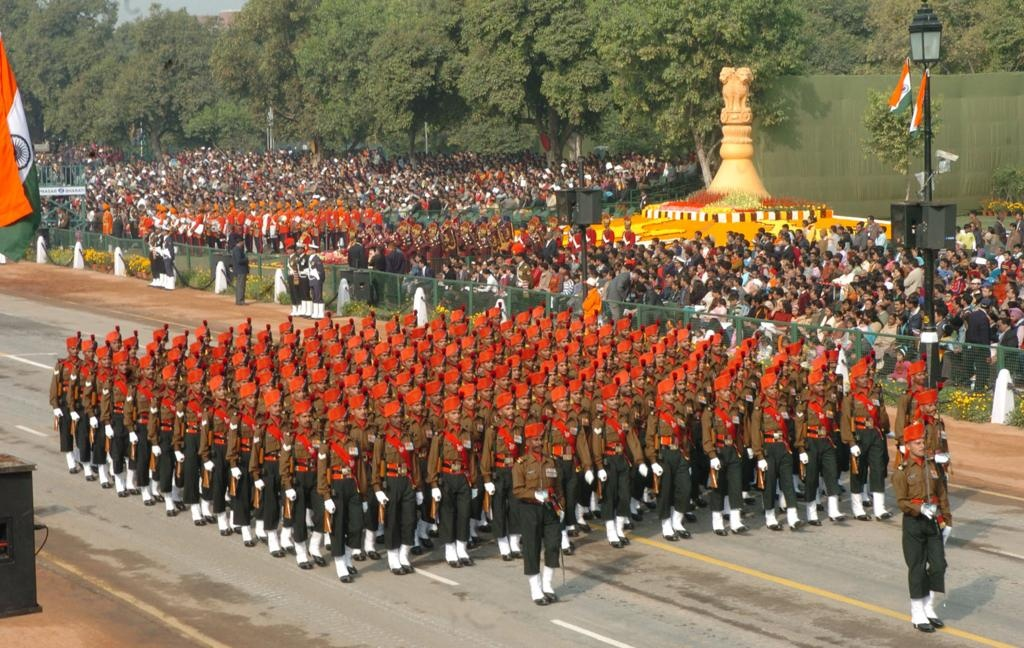human_face: (908, 436, 924, 455), (529, 433, 543, 451), (299, 411, 313, 427), (292, 385, 306, 401), (923, 400, 937, 416), (268, 400, 282, 414), (764, 383, 778, 397), (718, 386, 730, 402), (662, 387, 674, 403), (620, 380, 632, 396), (501, 403, 513, 419), (518, 392, 530, 408), (354, 403, 366, 419), (390, 412, 402, 428), (412, 398, 424, 414), (448, 409, 460, 423), (245, 393, 257, 407), (214, 385, 226, 399), (167, 375, 179, 389), (142, 365, 154, 379), (328, 396, 340, 410), (812, 381, 824, 395), (534, 382, 546, 396), (557, 396, 569, 410), (571, 389, 583, 403), (463, 394, 475, 408), (606, 394, 618, 408), (430, 390, 442, 404), (544, 369, 556, 383), (364, 375, 376, 389), (675, 378, 685, 394), (238, 376, 250, 389), (856, 373, 868, 386), (556, 360, 568, 373), (192, 380, 204, 392), (260, 381, 272, 393), (686, 370, 698, 382), (481, 386, 493, 398), (399, 382, 411, 394), (414, 373, 426, 385), (378, 393, 390, 405), (482, 334, 494, 346), (334, 418, 344, 432), (914, 369, 924, 383), (790, 350, 800, 364), (448, 379, 458, 393), (644, 362, 654, 376), (655, 352, 665, 366), (570, 350, 580, 364), (421, 346, 431, 360), (826, 359, 838, 370), (634, 374, 644, 387), (118, 361, 128, 373), (100, 355, 110, 367), (85, 346, 95, 358), (68, 344, 78, 356), (316, 378, 326, 390), (712, 342, 722, 354), (498, 376, 508, 388), (286, 375, 298, 385), (680, 337, 690, 349), (632, 339, 642, 351), (620, 350, 632, 360), (586, 343, 598, 353), (541, 347, 551, 359), (511, 366, 521, 378), (388, 366, 398, 378), (435, 363, 445, 375), (448, 352, 458, 364), (436, 336, 446, 348), (338, 370, 348, 382), (379, 350, 389, 362), (333, 352, 343, 364), (326, 336, 336, 348), (110, 339, 120, 351), (780, 362, 788, 376), (584, 378, 594, 389), (483, 359, 493, 370), (405, 357, 415, 368), (358, 359, 368, 370), (236, 360, 246, 371), (362, 325, 374, 334), (348, 384, 358, 394), (260, 368, 270, 378), (594, 368, 604, 378), (602, 335, 612, 345), (542, 327, 552, 337), (463, 370, 473, 380), (394, 342, 404, 352), (351, 344, 361, 354), (126, 346, 136, 356), (214, 356, 224, 366), (281, 330, 291, 340), (258, 350, 268, 360), (994, 320, 1004, 330), (734, 367, 742, 379), (866, 370, 874, 382), (743, 356, 751, 368), (696, 359, 704, 371), (588, 320, 596, 332), (201, 332, 209, 344), (306, 349, 318, 357), (513, 343, 523, 352), (176, 344, 186, 353), (666, 344, 674, 355), (310, 364, 318, 374), (649, 332, 657, 342), (560, 337, 568, 347), (524, 358, 532, 368), (495, 352, 503, 362), (465, 344, 473, 354), (504, 328, 512, 338), (520, 320, 528, 330), (454, 318, 464, 326), (414, 336, 424, 344), (406, 323, 414, 333), (368, 336, 376, 346), (344, 330, 354, 338), (320, 326, 330, 334), (152, 352, 160, 362), (158, 337, 166, 347), (306, 336, 316, 344), (1000, 263, 1008, 273), (620, 327, 628, 336), (574, 328, 582, 337), (390, 328, 398, 337), (195, 348, 203, 357), (241, 343, 249, 352), (283, 358, 291, 366), (560, 318, 568, 326), (531, 334, 539, 342), (534, 314, 542, 322), (491, 315, 499, 323), (478, 321, 486, 329), (221, 342, 229, 350), (1005, 290, 1013, 298), (970, 280, 978, 288), (1010, 310, 1016, 320), (871, 248, 877, 258), (846, 262, 852, 272), (896, 352, 902, 360), (266, 337, 272, 345), (1000, 311, 1006, 319), (907, 300, 913, 308), (894, 301, 900, 309), (864, 301, 870, 309), (874, 302, 880, 310), (863, 312, 869, 320), (982, 288, 988, 296), (864, 292, 870, 300), (790, 308, 798, 314), (778, 302, 784, 310), (894, 269, 900, 277), (786, 291, 792, 299), (772, 290, 780, 296), (932, 312, 938, 320), (729, 296, 735, 304), (696, 264, 702, 272), (706, 280, 712, 288), (784, 266, 790, 274), (742, 250, 748, 258), (731, 279, 737, 287), (888, 316, 894, 323), (895, 317, 901, 324), (824, 308, 830, 315), (950, 255, 956, 262), (918, 311, 924, 317), (842, 302, 848, 308), (834, 314, 840, 320), (1010, 264, 1016, 270), (939, 260, 945, 266), (804, 306, 810, 312), (892, 282, 898, 288), (952, 269, 958, 275), (810, 290, 816, 296), (750, 298, 756, 304), (712, 290, 718, 296), (832, 254, 838, 260), (900, 257, 906, 263), (856, 224, 862, 230), (707, 271, 713, 277), (754, 257, 760, 263), (968, 213, 974, 219), (866, 240, 872, 246), (959, 296, 965, 302), (694, 233, 700, 239), (952, 300, 956, 308), (688, 268, 692, 276), (795, 230, 799, 238), (680, 277, 684, 285), (1009, 223, 1013, 231), (1016, 212, 1020, 220), (819, 230, 823, 238), (782, 238, 786, 246), (860, 252, 864, 260), (858, 320, 864, 325), (822, 252, 826, 259), (761, 341, 767, 345), (782, 340, 786, 346), (884, 297, 888, 303), (945, 294, 951, 298), (1003, 253, 1007, 259), (1013, 246, 1017, 252), (987, 261, 991, 267), (947, 251, 951, 257), (958, 250, 962, 256), (876, 287, 880, 293), (798, 286, 804, 290), (796, 277, 800, 283), (830, 262, 834, 268), (836, 242, 840, 248), (854, 274, 858, 280), (672, 282, 676, 288), (810, 254, 814, 260), (752, 270, 756, 276), (866, 217, 870, 223), (735, 239, 739, 245), (782, 226, 786, 232), (846, 320, 850, 325), (964, 226, 968, 231), (969, 223, 973, 228), (764, 234, 768, 239), (878, 226, 882, 230)
